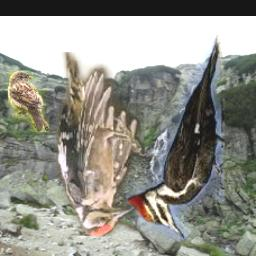Sparrow: (9, 71, 51, 133)
Woodpecker: (126, 28, 225, 240), (57, 52, 146, 236)
